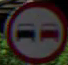No overtake: (7, 5, 62, 56)
